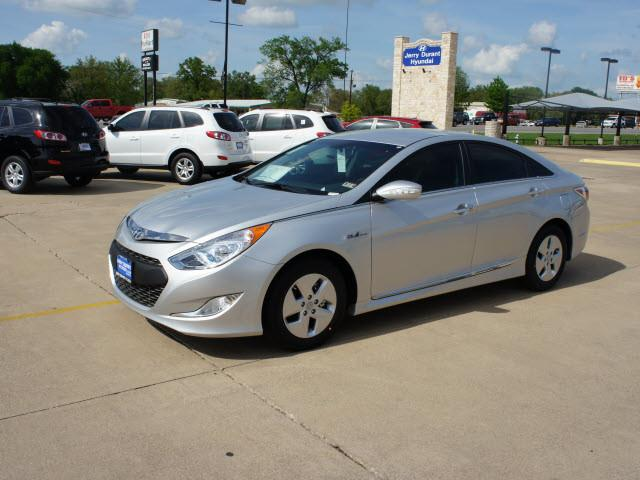car: (89, 96, 282, 179)
